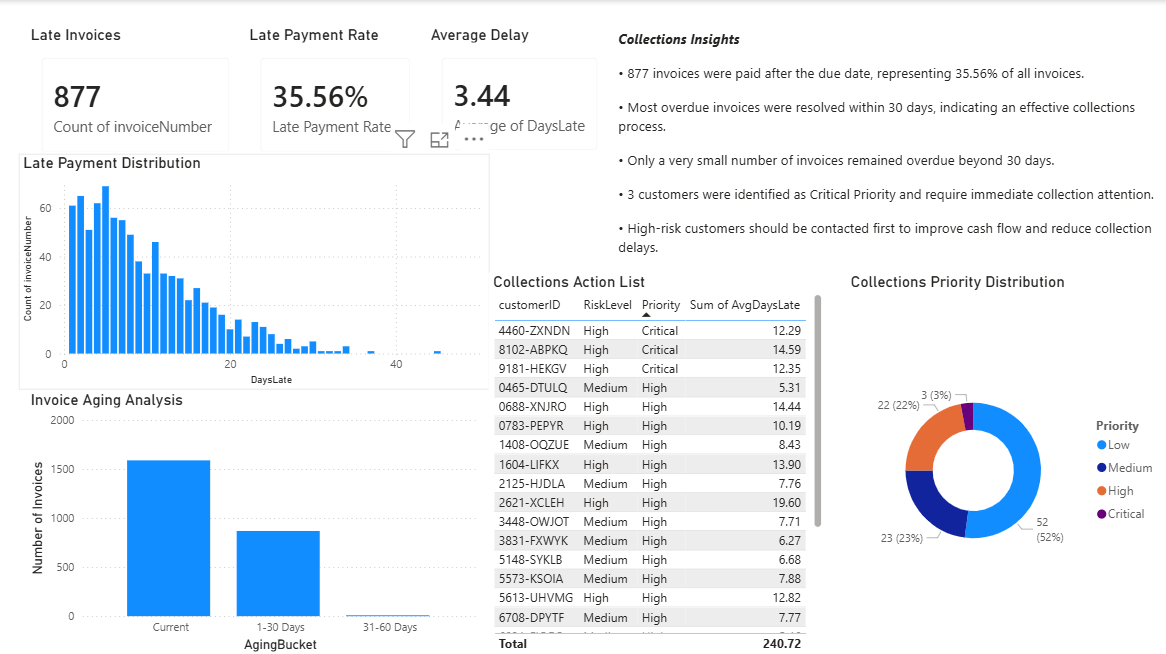

The page's visual inventory and layout, read from the dashboard file:
{"tool":"powerbi","page":{"name":"Collections & Aging Dashboard","canvas":[1280,720],"ordinal":2},"visuals":[{"type":"cardVisual","title":"Late Invoices","fields":{"Data":["CountNonNull(WA_Fn-UseC_-Accounts-Receivable.invoiceNumber)"]},"box":[28.8,27.4,240.1,156.4],"z":0},{"type":"cardVisual","title":"Late Payment Rate","fields":{"Data":["WA_Fn-UseC_-Accounts-Receivable.Late Payment Rate"]},"box":[269,27.4,199,156.4],"z":1000},{"type":"cardVisual","title":"Average Delay","fields":{"Data":["Avg(WA_Fn-UseC_-Accounts-Receivable.DaysLate)"]},"box":[467.9,27.4,205.8,155.1],"z":2000},{"type":"clusteredColumnChart","title":"Invoice Aging Analysis","fields":{"Category":["aging_analysis.AgingBucket"],"Y":["Sum(aging_analysis.InvoiceCount)"]},"box":[28.8,428.1,500.9,292.3],"z":3000},{"type":"donutChart","title":"Collections Priority Distribution","fields":{"Category":["customer_risk_report.Priority"],"Y":["CountNonNull(customer_risk_report.customerID)"]},"box":[929,299.1,351.3,415.8],"z":4000},{"type":"columnChart","title":"Late Payment Distribution","fields":{"Category":["WA_Fn-UseC_-Accounts-Receivable.DaysLate"],"Y":["CountNonNull(WA_Fn-UseC_-Accounts-Receivable.invoiceNumber)"]},"box":[20.6,168.8,517.3,259.3],"z":5000},{"type":"tableEx","title":"Collections Action List","fields":{"Values":["customer_risk_report.customerID","customer_risk_report.RiskLevel","customer_risk_report.Priority","Sum(customer_risk_report.AvgDaysLate)"]},"box":[536.5,299.1,370.5,421.3],"z":6000},{"type":"textbox","box":[673.8,27.4,606.5,262.1],"z":7000}]}

Visuals, with their boxes in screenshot pixels (x1, y1, x2, y2), scaled from the page's 1280x720 canvas onto the 1166x654 screenshot:
"Late Invoices" cardVisual: left=26, top=25, right=245, bottom=167
"Late Payment Rate" cardVisual: left=245, top=25, right=426, bottom=167
"Average Delay" cardVisual: left=426, top=25, right=614, bottom=166
"Invoice Aging Analysis" clusteredColumnChart: left=26, top=389, right=483, bottom=653
"Collections Priority Distribution" donutChart: left=846, top=272, right=1165, bottom=649
"Late Payment Distribution" columnChart: left=19, top=153, right=490, bottom=389
"Collections Action List" tableEx: left=489, top=272, right=826, bottom=653
textbox: left=614, top=25, right=1165, bottom=263
